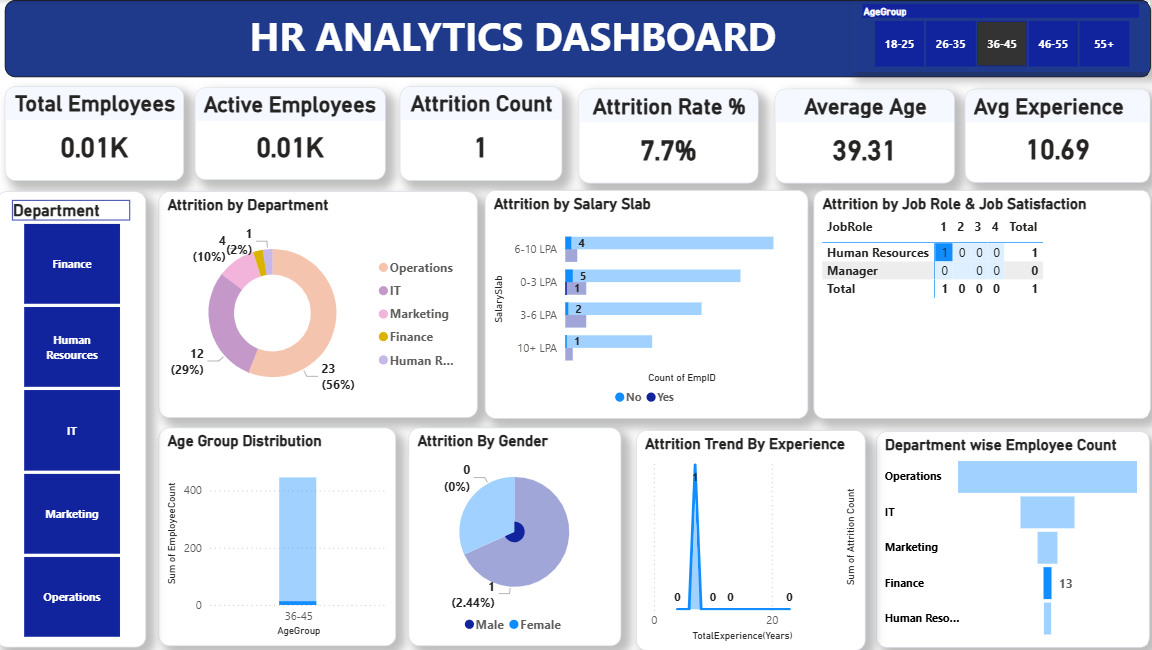

Layout of this report page (visuals, bound fields, positions):
{"tool":"powerbi","page":{"name":"Page 1","canvas":[1280,720],"ordinal":0},"visuals":[{"type":"textbox","box":[9.6,0,1259,85],"z":0},{"type":"card","title":"Total Employees","fields":{"Values":["CountNonNull(HR_Analytics-4.EmpID)"]},"box":[10,95,197,104],"z":1000},{"type":"card","title":"Active Employees","fields":{"Values":["CountNonNull(HR_Analytics-4.EmployeeCount)"]},"box":[218.2,96.1,209.9,101.5],"z":2000},{"type":"card","title":"Attrition Count","fields":{"Values":["Sum(HR_Analytics-4.Attrition Count)"]},"box":[443.2,94.7,178.4,104.3],"z":3000},{"type":"card","title":"Attrition Rate %","fields":{"Values":["HR_Analytics-4.Attrition Rate%"]},"box":[639.5,97.4,197.6,104.3],"z":4000},{"type":"card","title":"Average Age","fields":{"Values":["Avg(HR_Analytics-4.Age)"]},"box":[854.9,97.4,197.6,104.3],"z":5000},{"type":"card","title":"Avg Experience","fields":{"Values":["Avg(HR_Analytics-4.YearsatCompany)"]},"box":[1063.5,97.4,204.5,102.9],"z":6000},{"type":"donutChart","title":"Attrition by Department","fields":{"Category":["HR_Analytics-4.Department"],"Y":["Sum(HR_Analytics-4.Attrition Count)"]},"box":[179,210,350,249],"z":7000},{"type":"clusteredBarChart","title":"Attrition by Salary Slab","fields":{"Category":["HR_Analytics-4.SalarySlab"],"Y":["CountNonNull(HR_Analytics-4.EmpID)"],"Series":["HR_Analytics-4.Attrition"]},"box":[537,209,355,251],"z":8000},{"type":"pivotTable","title":"Attrition by Job Role & Job Satisfaction","fields":{"Rows":["HR_Analytics-4.JobRole"],"Values":["Sum(HR_Analytics-4.Attrition Count)"],"Columns":["HR_Analytics-4.JobSatisfaction"]},"box":[898,209,371,251],"z":9000},{"type":"columnChart","title":"Age Group Distribution","fields":{"Y":["Sum(HR_Analytics-4.EmployeeCount)"],"Category":["HR_Analytics-4.AgeGroup"]},"box":[179,469,261,240],"z":9001},{"type":"pieChart","title":"Attrition By Gender","fields":{"Category":["HR_Analytics-4.Gender"],"Y":["Sum(HR_Analytics-4.Attrition Count)"]},"box":[452.8,469.3,233.3,240.1],"z":9002},{"type":"funnel","title":"Department wise Employee Count","fields":{"Category":["HR_Analytics-4.Department"],"Y":["CountNonNull(HR_Analytics-4.EmpID)"]},"box":[966,473.4,301.9,237.4],"z":9003},{"type":"slicer","fields":{"Values":["HR_Analytics-4.Department"]},"box":[0,209.9,164.7,500.9],"z":9004},{"type":"slicer","fields":{"Values":["HR_Analytics-4.AgeGroup"]},"box":[938.6,0,329.3,79.6],"z":9005},{"type":"areaChart","title":"Attrition Trend By Experience","fields":{"Category":["HR_Analytics-4.TotalExperience(Years)"],"Y2":["Sum(HR_Analytics-4.Attrition Count)"]},"box":[702.6,472,252,242],"z":9006}]}

Visuals, with their boxes in screenshot pixels (x1, y1, x2, y2), scaled from the page's 1280x720 canvas onto the 1152x650 screenshot:
textbox: [9,0,1142,77]
"Total Employees" card: [9,86,186,180]
"Active Employees" card: [196,87,385,178]
"Attrition Count" card: [399,85,559,180]
"Attrition Rate %" card: [576,88,753,182]
"Average Age" card: [769,88,947,182]
"Avg Experience" card: [957,88,1141,181]
"Attrition by Department" donutChart: [161,190,476,414]
"Attrition by Salary Slab" clusteredBarChart: [483,189,803,415]
"Attrition by Job Role & Job Satisfaction" pivotTable: [808,189,1142,415]
"Age Group Distribution" columnChart: [161,423,396,640]
"Attrition By Gender" pieChart: [408,424,617,640]
"Department wise Employee Count" funnel: [869,427,1141,642]
slicer - HR_Analytics-4.Department: [0,189,148,642]
slicer - HR_Analytics-4.AgeGroup: [845,0,1141,72]
"Attrition Trend By Experience" areaChart: [632,426,859,645]
